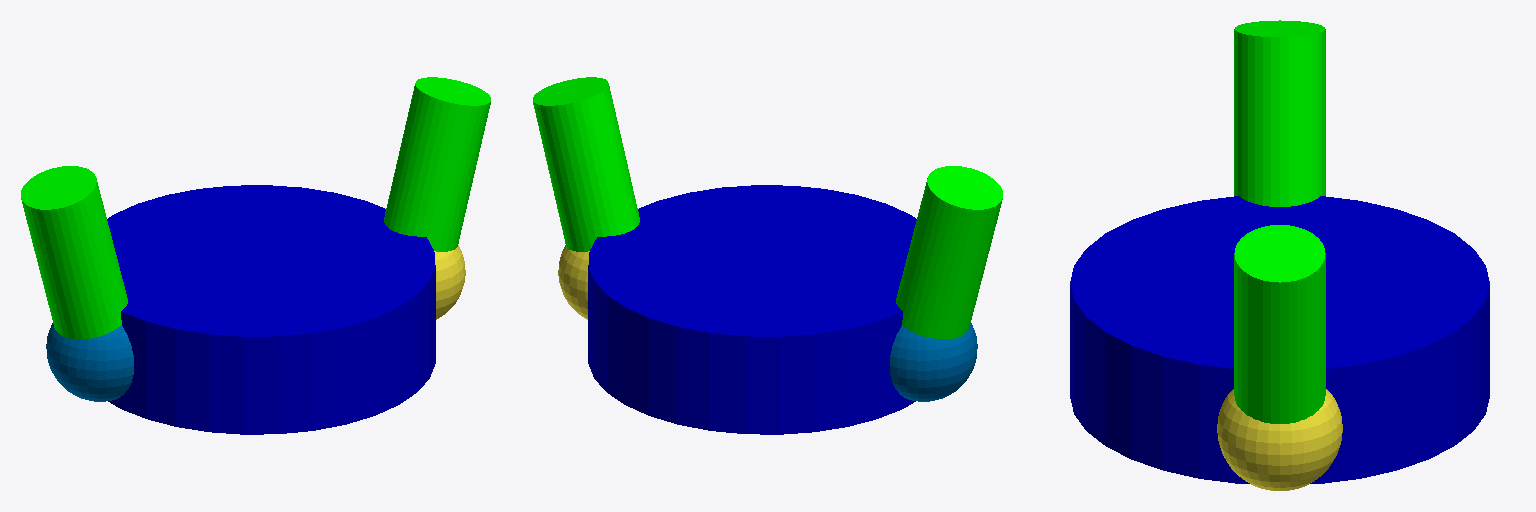
robot.urdf — gripper_2f_1j:
<?xml version='1.0' encoding='UTF-8'?>
<robot name="gripper_2f_1j">
  <link name="palm">
    <inertial>
      <origin xyz="0.0 0.0 0.0" rpy="0.0 -0.0 0.0"/>
      <mass value="1.0"/>
      <inertia ixx="1.0" ixy="0.0" ixz="0.0" iyy="1.0" iyz="0.0" izz="1.0"/>
    </inertial>
    <visual>
      <geometry>
        <cylinder radius="0.05" length="0.03"/>
      </geometry>
      <material name="blue"/>
      <origin xyz="0.0 0.0 0.0" rpy="0.0 -0.0 0.0"/>
    </visual>
    <collision>
      <geometry>
        <cylinder radius="0.05" length="0.03"/>
      </geometry>
      <origin xyz="0.0 0.0 0.0" rpy="0.0 0.0 0.0"/>
    </collision>
  </link>
  <link name="f11">
    <inertial>
      <origin xyz="0.0 0.0 0.0" rpy="0.0 -0.0 0.0"/>
      <mass value="1.0"/>
      <inertia ixx="1.0" ixy="0.0" ixz="0.0" iyy="1.0" iyz="0.0" izz="1.0"/>
    </inertial>
    <visual>
      <geometry>
        <cylinder radius="0.010859052153035512" length="0.053865779561189736"/>
      </geometry>
      <material name="green"/>
      <origin xyz="0.0 0.0 0.026932889780594868" rpy="0.0 -0.0 0.0"/>
    </visual>
    <collision>
      <geometry>
        <cylinder radius="0.010859052153035512" length="0.053865779561189736"/>
      </geometry>
      <origin xyz="0.0 0.0 0.05" rpy="0.0 0.0 0.0"/>
    </collision>
  </link>
  <link name="f21">
    <inertial>
      <origin xyz="0.0 0.0 0.0" rpy="0.0 -0.0 0.0"/>
      <mass value="1.0"/>
      <inertia ixx="1.0" ixy="0.0" ixz="0.0" iyy="1.0" iyz="0.0" izz="1.0"/>
    </inertial>
    <visual>
      <geometry>
        <cylinder radius="0.010859052153035512" length="0.053865779561189736"/>
      </geometry>
      <material name="green"/>
      <origin xyz="0.0 0.0 0.026932889780594868" rpy="0.0 -0.0 0.0"/>
    </visual>
    <collision>
      <geometry>
        <cylinder radius="0.010859052153035512" length="0.053865779561189736"/>
      </geometry>
      <origin xyz="0.0 0.0 0.05" rpy="0.0 0.0 0.0"/>
    </collision>
  </link>
  <link name="f11_base">
    <inertial>
      <origin xyz="0.0 0.0 0.0" rpy="0.0 -0.0 0.0"/>
      <mass value="1.0"/>
      <inertia ixx="1.0" ixy="0.0" ixz="0.0" iyy="1.0" iyz="0.0" izz="1.0"/>
    </inertial>
    <visual>
      <geometry>
        <sphere radius="0.015"/>
      </geometry>
      <origin xyz="0.0 0.0 0.0" rpy="0.0 -0.0 0.0"/>
    </visual>
  </link>
  <link name="f21_base">
    <inertial>
      <origin xyz="0.0 0.0 0.0" rpy="0.0 -0.0 0.0"/>
      <mass value="1.0"/>
      <inertia ixx="1.0" ixy="0.0" ixz="0.0" iyy="1.0" iyz="0.0" izz="1.0"/>
    </inertial>
    <visual>
      <geometry>
        <sphere radius="0.015"/>
      </geometry>
      <origin xyz="0.0 0.0 0.0" rpy="0.0 -0.0 0.0"/>
    </visual>
  </link>
  <joint name="f11_joint" type="revolute">
    <dynamics damping="100.0" friction="1.0"/>
    <limit effort="30.0" velocity="2.0" lower="-0.6" upper="0.25"/>
    <parent link="f11_base"/>
    <child link="f11"/>
    <axis xyz="0. 1. 0."/>
    <origin xyz="0.0 0.0 0.0" rpy="0.0 0.25 0.0"/>
  </joint>
  <joint name="f21_joint" type="revolute">
    <dynamics damping="100.0" friction="1.0"/>
    <limit effort="30.0" velocity="2.0" lower="-0.6" upper="0.25"/>
    <parent link="f21_base"/>
    <child link="f21"/>
    <axis xyz=" 0. -1.  0."/>
    <origin xyz="0.0 0.0 0.0" rpy="0.0 -0.25 0.0"/>
  </joint>
  <joint name="f11_base_joint" type="fixed">
    <parent link="palm"/>
    <child link="f11_base"/>
    <axis xyz="1. 0. 0."/>
    <origin xyz="0.05 0.0 0.0" rpy="0.0 0.0 0.0"/>
  </joint>
  <joint name="f21_base_joint" type="fixed">
    <parent link="palm"/>
    <child link="f21_base"/>
    <axis xyz="1. 0. 0."/>
    <origin xyz="-0.05 -0.0 0.0" rpy="0.0 0.0 0.0"/>
  </joint>
  <material name="blue">
    <color rgba="0.  0.  0.8 1. "/>
  </material>
  <material name="green">
    <color rgba="0. 1. 0. 1."/>
  </material>
</robot>

--- What the picture shows (computed from the rendered views, not written in the file) ---
The picture shows the robot from 3 angles, left to right: view 1: azimuth 30°, elevation 25°; view 2: azimuth 150°, elevation 25°; view 3: azimuth 270°, elevation 25°; orthographic projection.
Robot: gripper_2f_1j — 5 links, 4 joints (2 revolute, 2 fixed); root link palm; default pose: all joints at 0.
Visible links, largest first — view 1: palm, f21, f11, f21_base, f11_base; view 2: palm, f21, f11, f21_base, f11_base; view 3: palm, f11, f21, f11_base.
Link boxes in pixels (x1,y1,x2,y2): palm: [107, 185, 435, 434]; f21: [21, 166, 127, 339]; f11: [384, 77, 490, 251]; f21_base: [46, 323, 133, 401]; f11_base: [434, 245, 465, 319]; palm: [588, 185, 916, 434]; f21: [896, 166, 1002, 339]; f11: [533, 77, 639, 251]; f21_base: [890, 323, 977, 401]; f11_base: [558, 245, 589, 319]; palm: [1070, 196, 1489, 483]; f11: [1234, 225, 1325, 423]; f21: [1234, 20, 1325, 206]; f11_base: [1217, 389, 1342, 490].
Bounding box of the posed robot: 0.1477 × 0.1 × 0.0699 m (x, y, z).
Geometry: primitives only (box / cylinder / sphere), no mesh files.